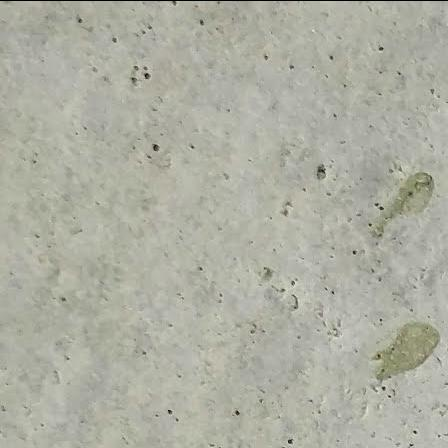spalling: (317, 163, 329, 184)
